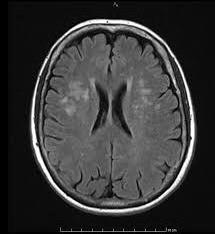Normal_Brain: (3, 3, 215, 234)
